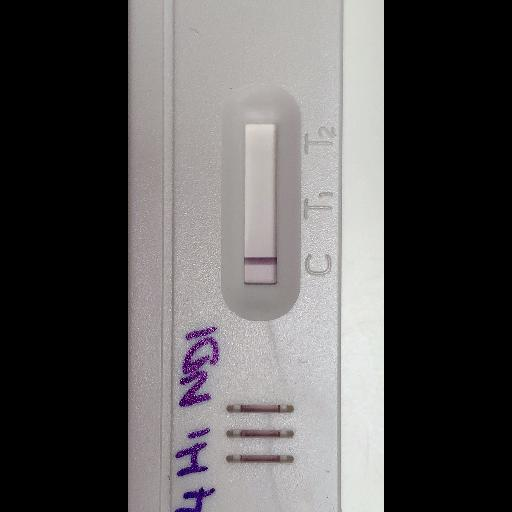Neg: (128, 0, 338, 510)
